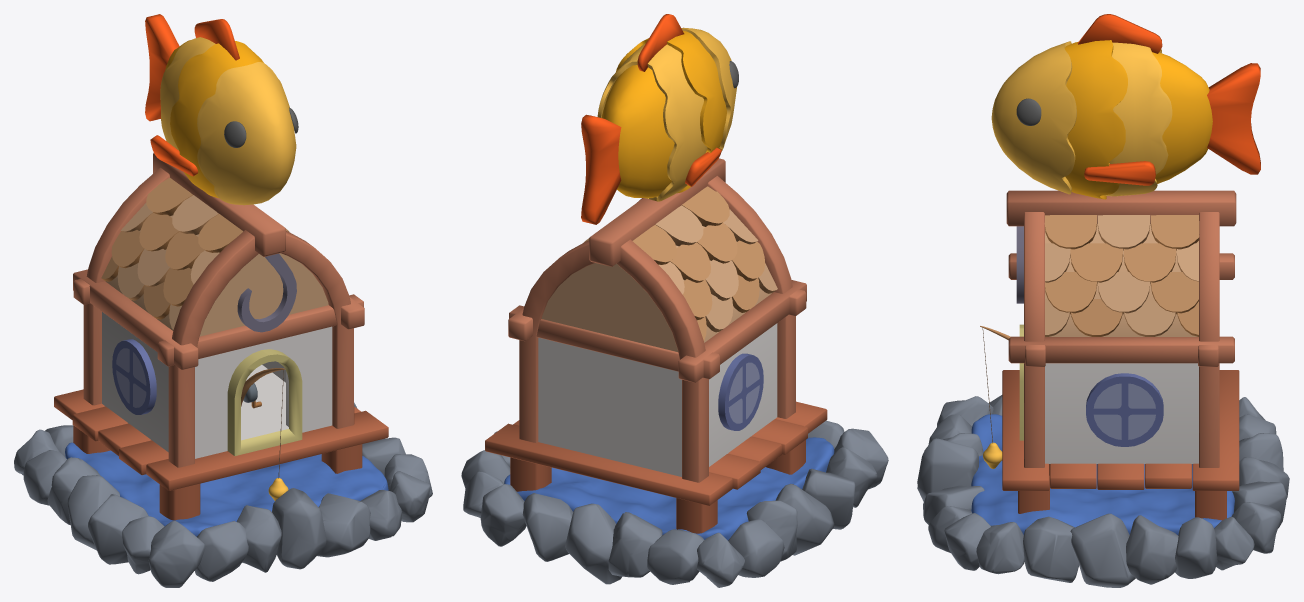
The model's file is Fish House.fbx.
The picture shows the model from 3 angles, left to right: view 1: azimuth 30°, elevation 25°; view 2: azimuth 150°, elevation 25°; view 3: azimuth 270°, elevation 25°; orthographic projection. The views are drawn at different scales.
Parts seen in each view (by area): view 1: Fish House, Fish House.003, Fish House.001, Fish House.002; view 2: Fish House, Fish House.003, Fish House.001; view 3: Fish House, Fish House.003, Fish House.001, Fish House.002.
Part boxes in pixels (x1,y1,x2,y2): Fish House: [54, 153, 388, 520]; Fish House.003: [14, 402, 432, 587]; Fish House.001: [145, 14, 298, 205]; Fish House.002: [241, 368, 288, 500]; Fish House: [485, 158, 827, 533]; Fish House.003: [461, 420, 888, 587]; Fish House.001: [581, 14, 738, 224]; Fish House: [1002, 190, 1239, 520]; Fish House.003: [917, 395, 1289, 587]; Fish House.001: [991, 14, 1260, 199]; Fish House.002: [980, 326, 1010, 468].
Bounding box in the file's own units: 9.06 × 13.66 × 8.95.
